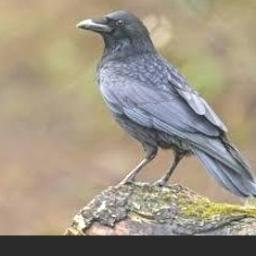Crow: (76, 9, 256, 199)
